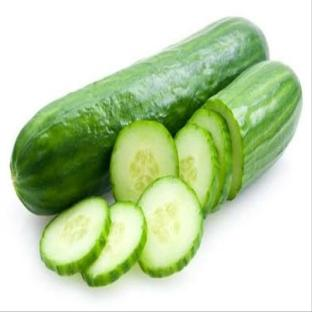Cucumber: (11, 18, 267, 214), (205, 61, 301, 198), (139, 178, 202, 277), (110, 121, 178, 202), (40, 198, 110, 275), (83, 203, 146, 286), (189, 109, 232, 211), (175, 124, 219, 215)
